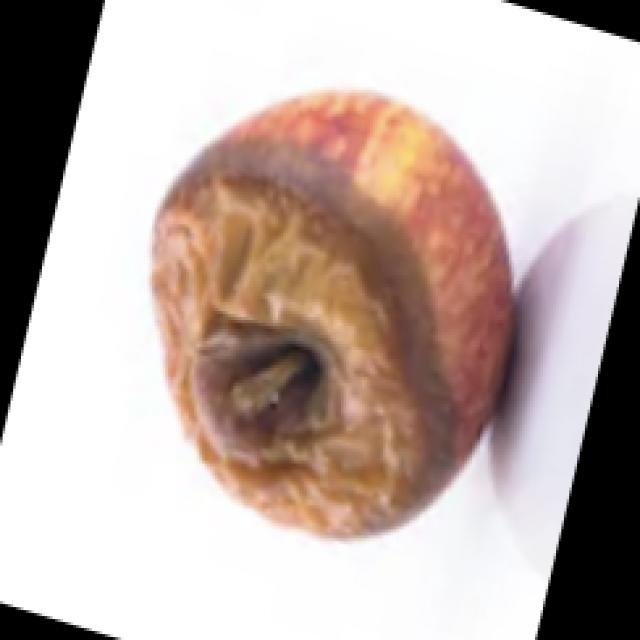Rotten: (137, 98, 518, 562)
